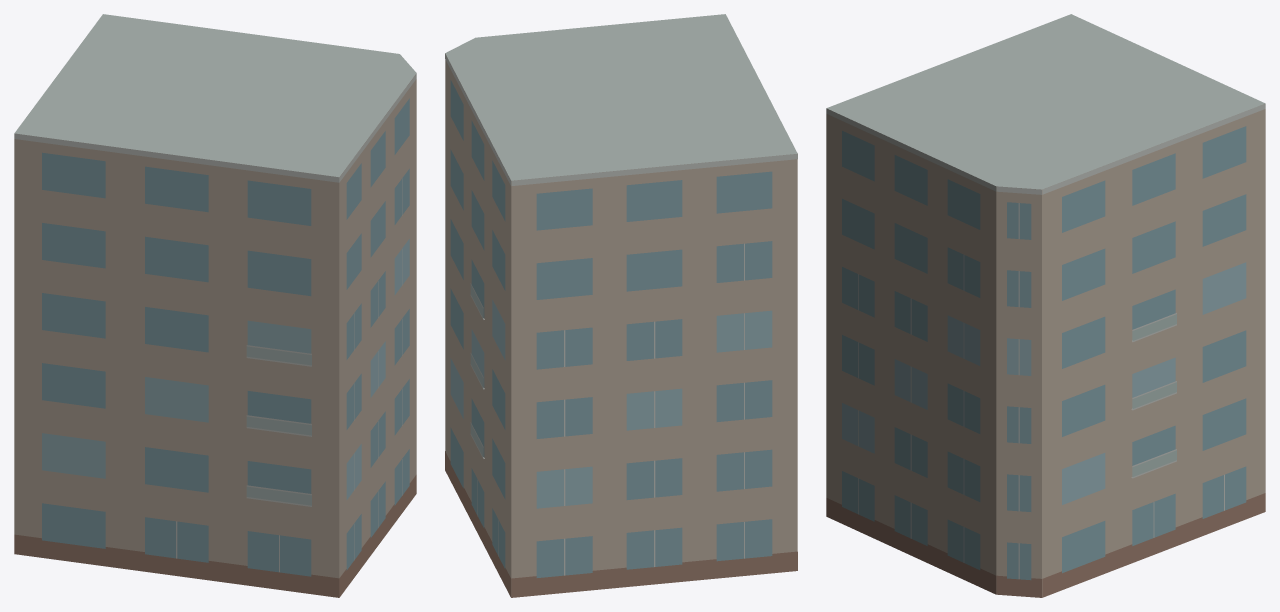
Rendered from survey-upis-32747516.glb.
The picture shows the model from 3 angles, left to right: view 1: azimuth 30°, elevation 25°; view 2: azimuth 150°, elevation 25°; view 3: azimuth 270°, elevation 25°; orthographic projection. The views are drawn at different scales.
Parts seen in each view (by area): view 1: survey-upis-32747516.tmp; view 2: survey-upis-32747516.tmp; view 3: survey-upis-32747516.tmp.
Boxes of the visible parts, bbox=[...] form: survey-upis-32747516.tmp: bbox=[14, 14, 416, 597]; survey-upis-32747516.tmp: bbox=[445, 14, 797, 597]; survey-upis-32747516.tmp: bbox=[826, 14, 1265, 597].
Bounding box in the file's own units: 17.16 × 18.6 × 18.15.
